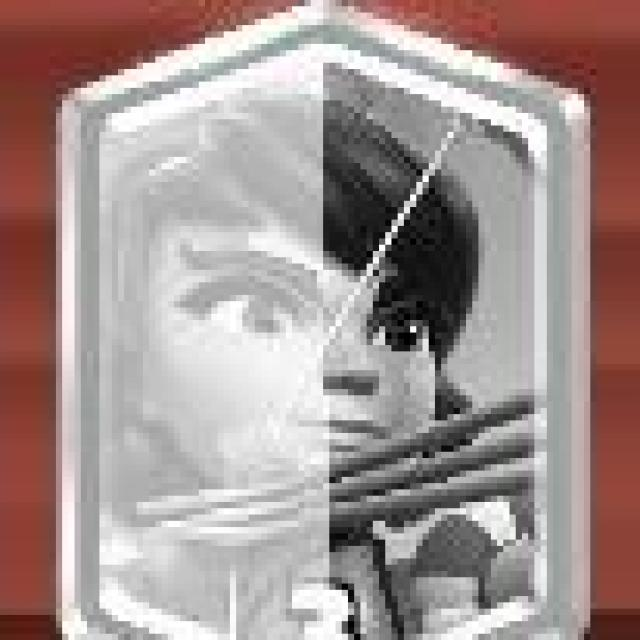Princess: (69, 0, 595, 640)
